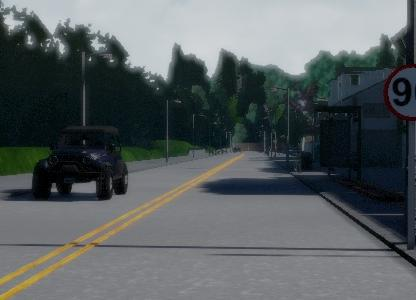Speed_90: (382, 62, 416, 124)
